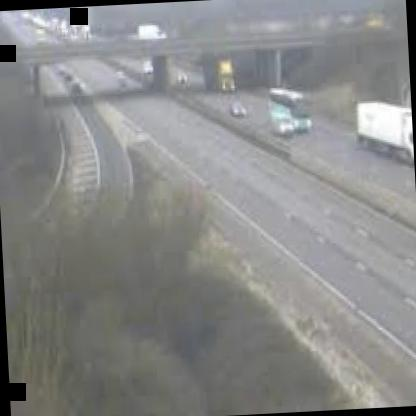car: (346, 84, 414, 184), (256, 78, 316, 142), (132, 19, 168, 48), (220, 94, 247, 122), (270, 113, 297, 138)
